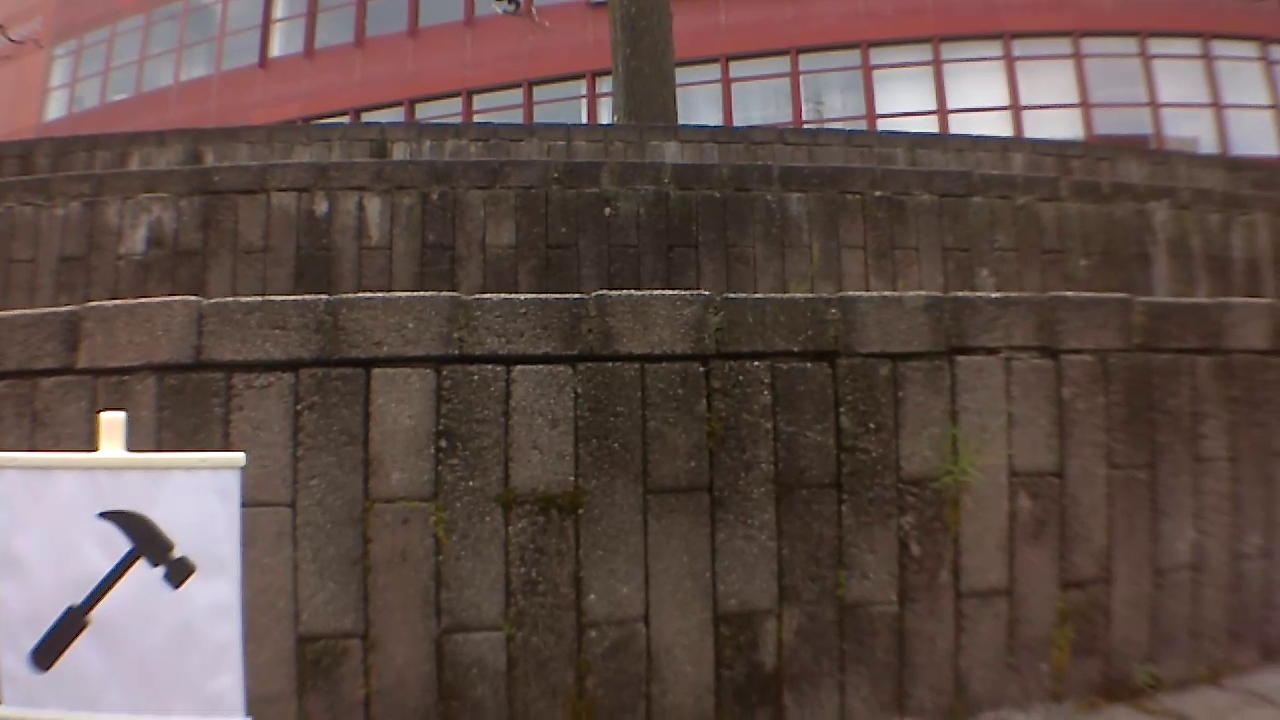hammer: (29, 500, 195, 672)
